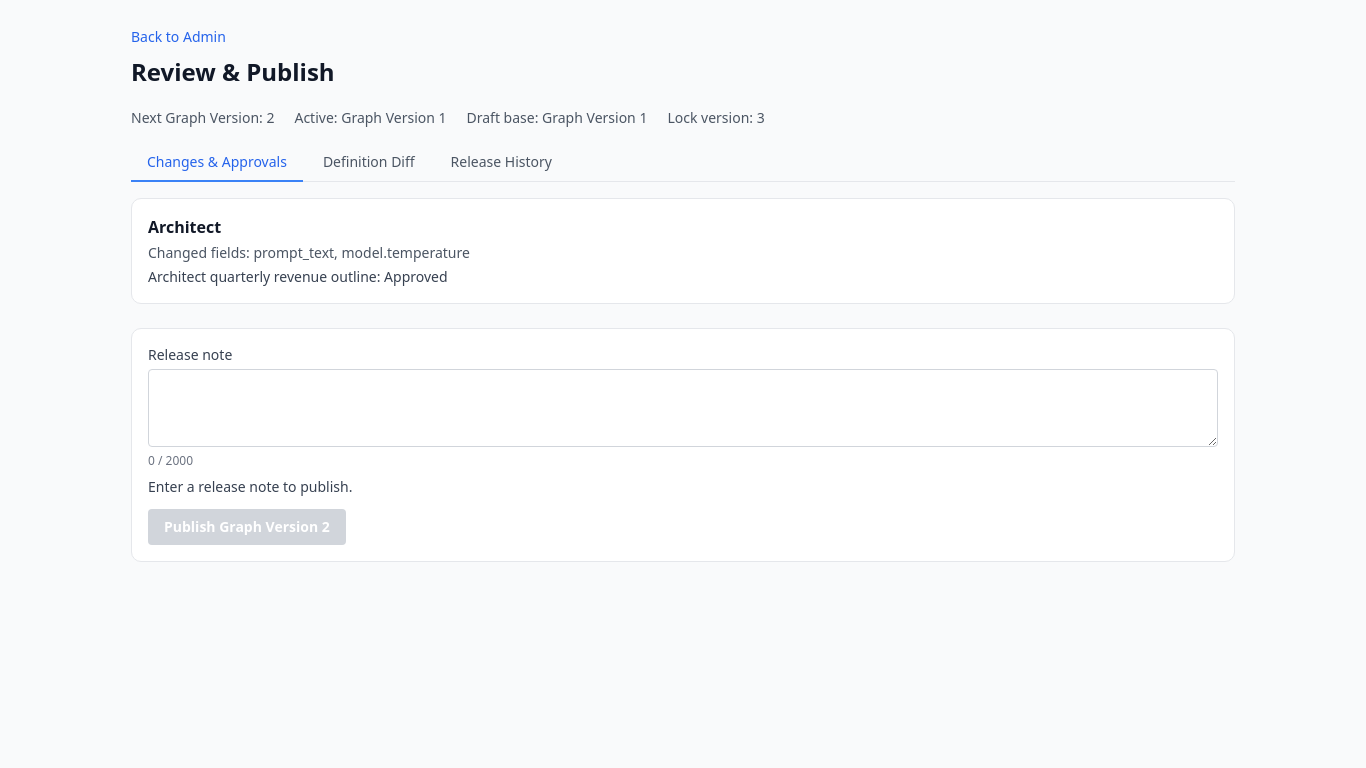
Test: Release History: the list › reads the history once when the tab opens and lists rows newest first with their lineage
Expected: the text "Next Graph Version: 2" is shown, [131,108,274,128]
Click the tab with test id "release-history-tab".
click(501, 163)  # box [435,144,568,182]
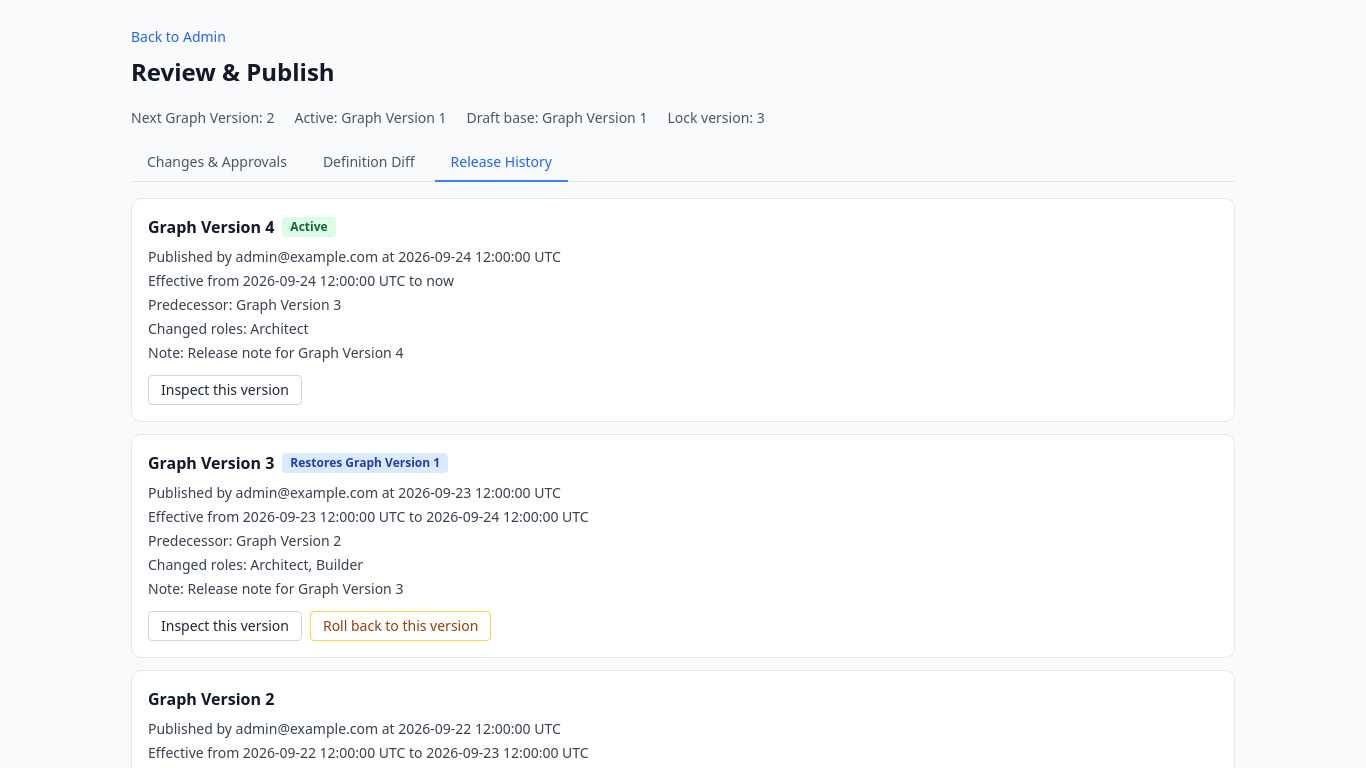
Expected: the heading "Graph Version 3" is shown, [148,451,274,475]
Expected: the list item with test id "release-history-row-3" shows "Published by admin@example.com at 2026-09-23 12:00:00 UTC", [148,483,561,502]
Expected: the list item with test id "release-history-row-3" shows "Effective from 2026-09-23 12:00:00 UTC to 2026-09-24 12:00:00 UTC", [148,507,589,526]
